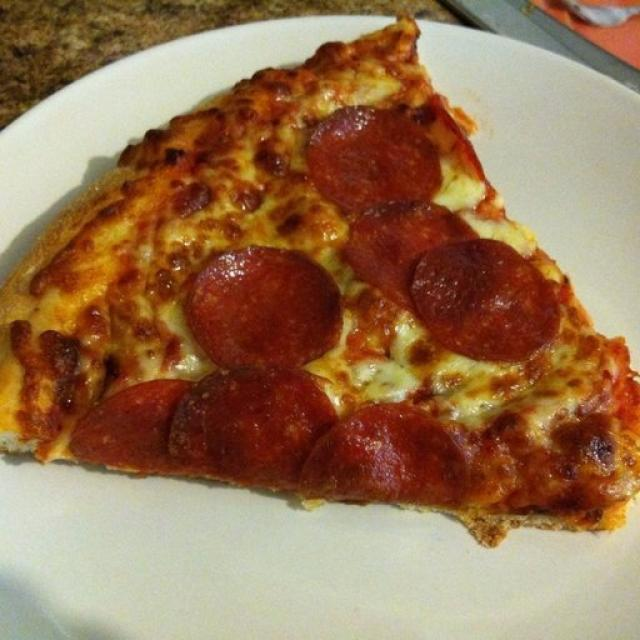Pepperoni: (179, 236, 355, 372), (185, 375, 340, 495), (410, 239, 552, 357), (304, 426, 479, 506), (303, 99, 440, 195), (339, 206, 463, 295), (75, 378, 183, 474)
Pizza: (0, 14, 640, 551)
